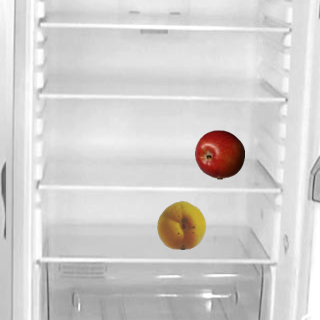Apple Braeburn: (194, 129, 244, 179)
Peach 2: (156, 199, 206, 249)
